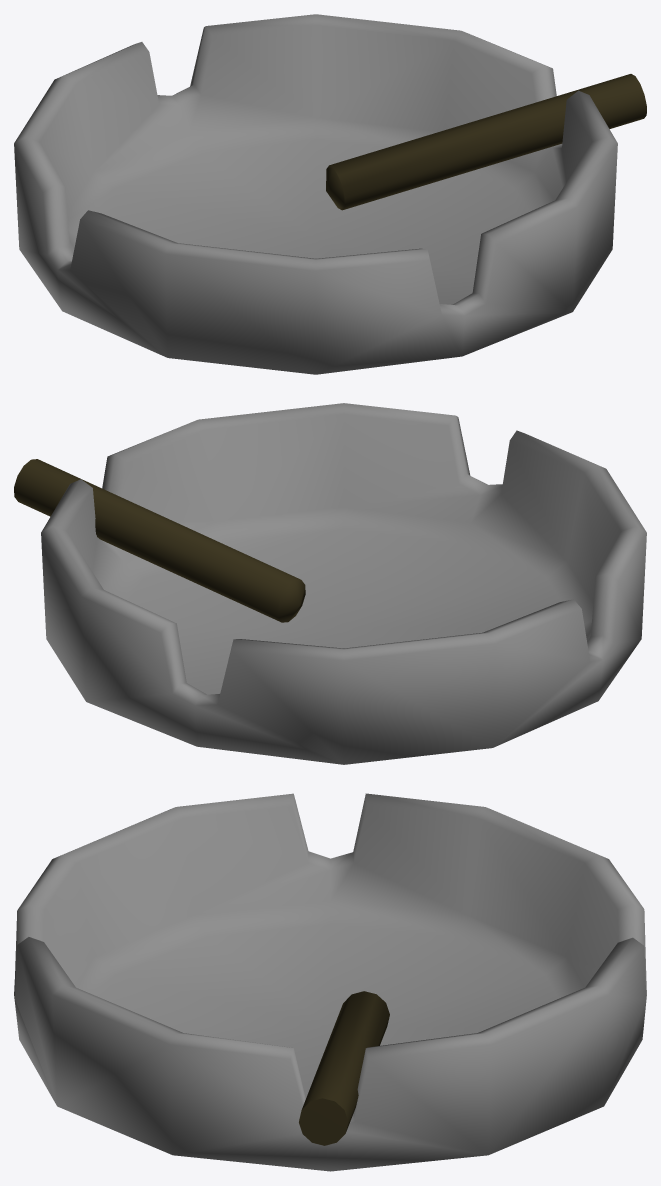
Rendered from ashtray_textured.fbx.
3 views of the same model, one above another, from view 1: azimuth 30°, elevation 25°; view 2: azimuth 150°, elevation 25°; view 3: azimuth 270°, elevation 25° (orthographic). The views are drawn at different scales.
Visible parts, largest first — view 1: ashtray, cigarette; view 2: ashtray, cigarette; view 3: ashtray, cigarette.
Part boxes in pixels (box(x1,y1,x2,y2)): ashtray: box(14, 14, 617, 374); cigarette: box(326, 74, 646, 210); ashtray: box(41, 403, 646, 764); cigarette: box(14, 459, 305, 622); ashtray: box(14, 793, 646, 1171); cigarette: box(299, 991, 389, 1145).
Bounding box in the file's own units: 25.26 × 4.67 × 22.42.
